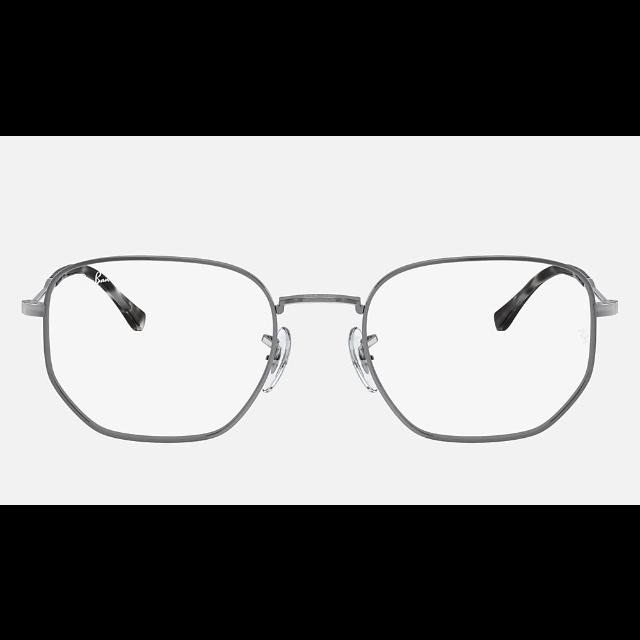glasses: (24, 253, 620, 443)
